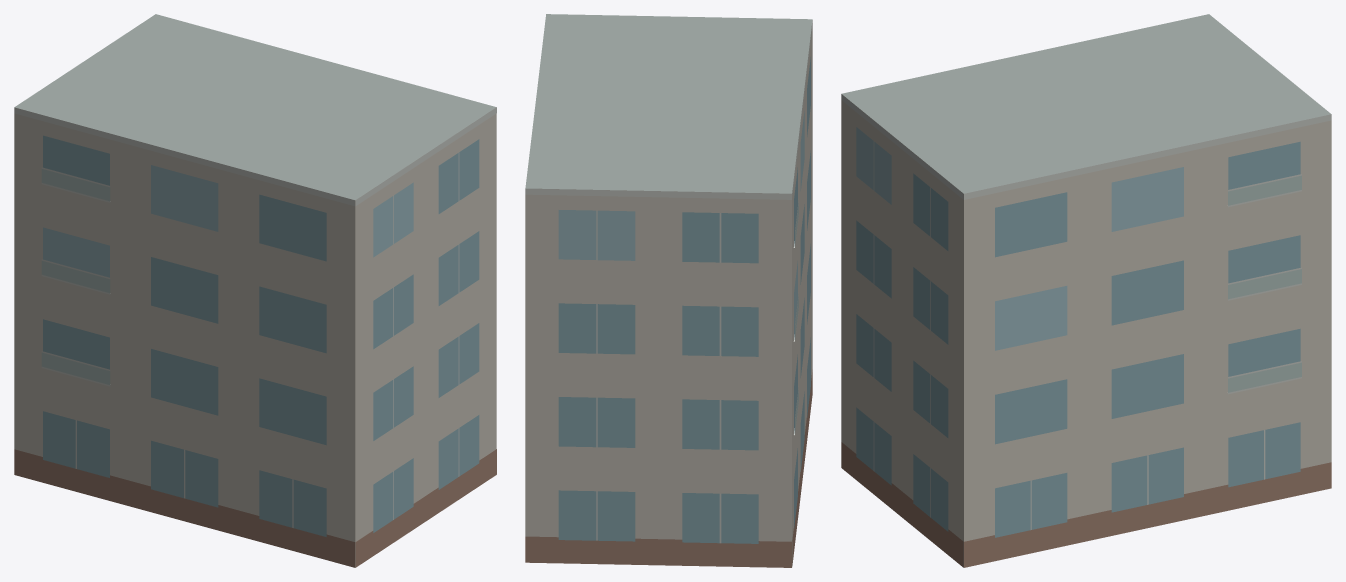
File: survey-upis-32894204.glb
3 renders of one model, left to right at view 1: azimuth 30°, elevation 25°; view 2: azimuth 150°, elevation 25°; view 3: azimuth 270°, elevation 25°, orthographic.
Visible parts, largest first — view 1: survey-upis-32894204.tmp; view 2: survey-upis-32894204.tmp; view 3: survey-upis-32894204.tmp.
Part boxes in pixels (left/top/right/bottom): survey-upis-32894204.tmp: left=14, top=14, right=496, bottom=567; survey-upis-32894204.tmp: left=525, top=14, right=812, bottom=567; survey-upis-32894204.tmp: left=841, top=14, right=1331, bottom=567.
Bounding box in the file's own units: 15.16 × 14.7 × 17.47.
